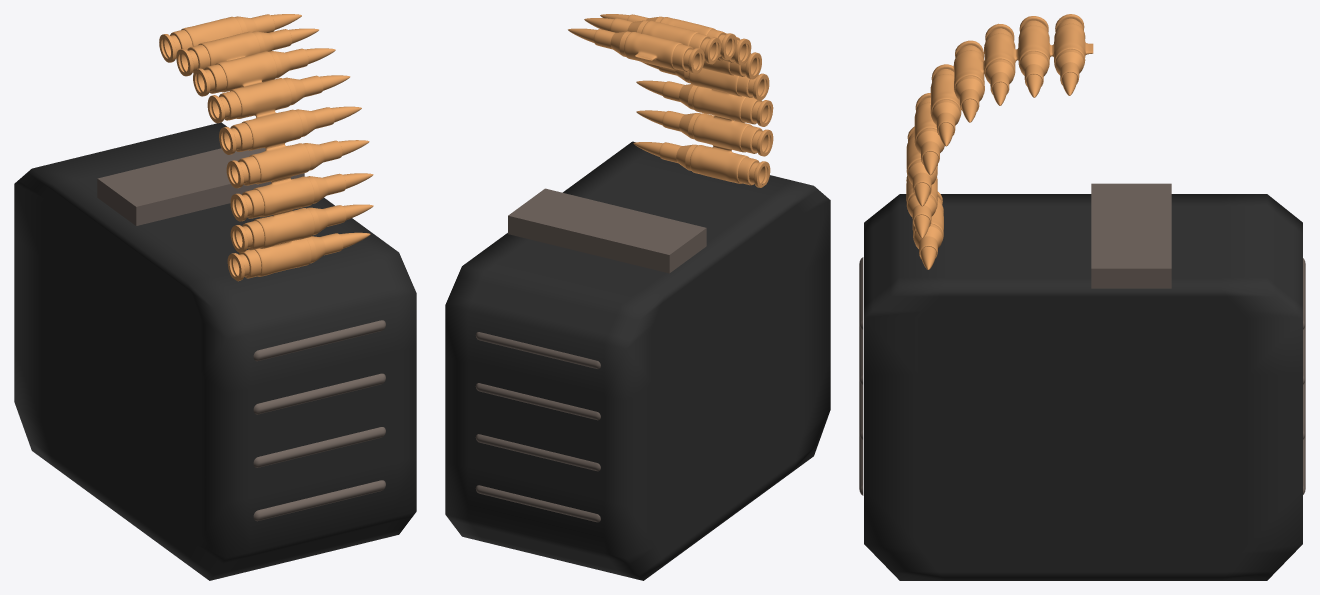
File: magazine_04.fbx
3 renders of one model, left to right at view 1: azimuth 30°, elevation 25°; view 2: azimuth 150°, elevation 25°; view 3: azimuth 270°, elevation 25°, orthographic. The views are drawn at different scales.
Visible parts, largest first — view 1: Plane.046, Circle.075, Cube.032, Body_Recievers.007; view 2: Plane.046, Circle.075, Cube.032, Body_Recievers.007; view 3: Plane.046, Circle.075, Cube.032, Body_Recievers.007.
Boxes of the visible parts, x1,y1,x2,y2 form: Plane.046: (14,122,416,580); Circle.075: (159,14,373,281); Cube.032: (97,148,304,225); Body_Recievers.007: (253,320,385,521); Plane.046: (445,141,830,580); Circle.075: (568,14,773,187); Cube.032: (508,188,706,273); Body_Recievers.007: (475,332,600,522); Plane.046: (864,194,1302,580); Circle.075: (906,14,1093,269); Cube.032: (1091,183,1171,288); Body_Recievers.007: (859,257,1305,495).
Bounding box in the file's own units: 29.34 × 70.49 × 57.97.
